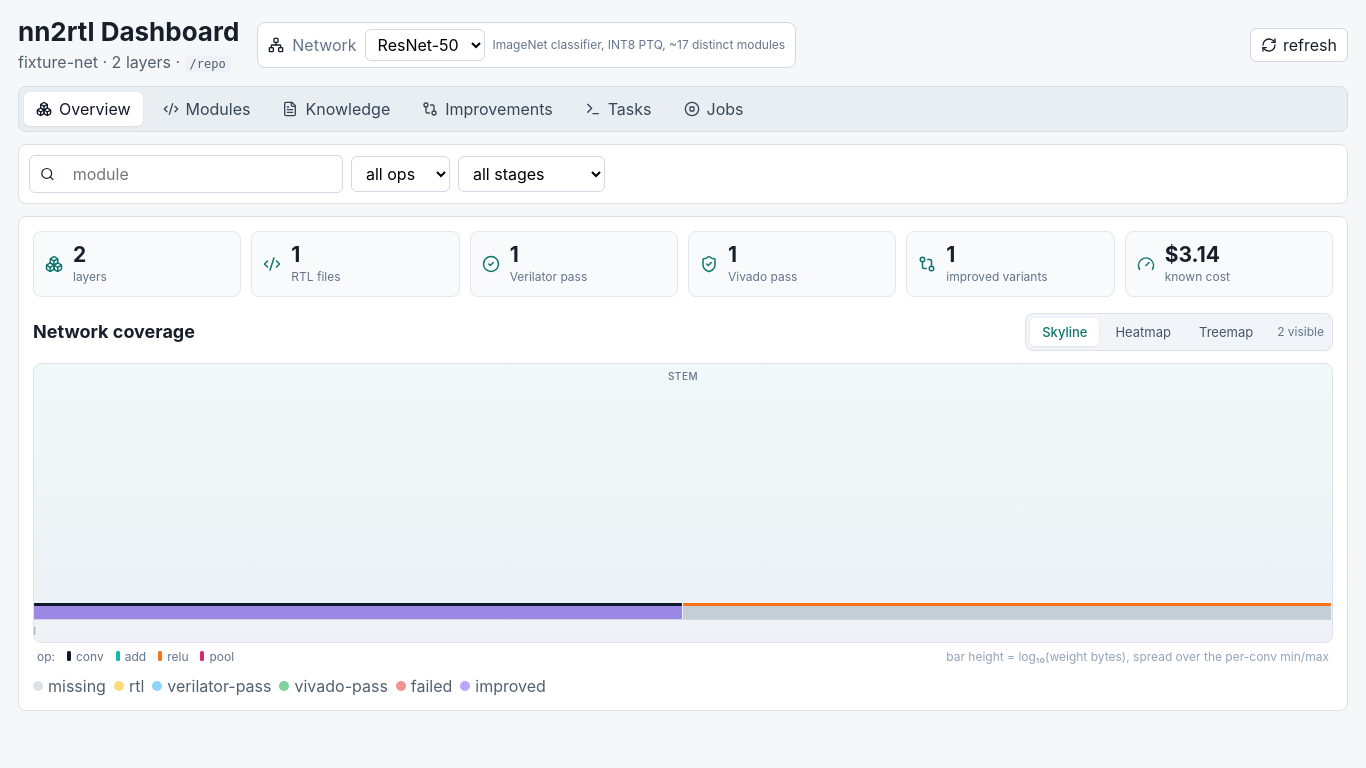
it: App › shows confirmation metadata before launching a command
Expected: the text "fixture-net · 2 layers · /repo" is shown, [18,52,239,72]
Step 1. Click the button "tasks" → (618, 109), box [573,92,664,126]
(page scrolled)
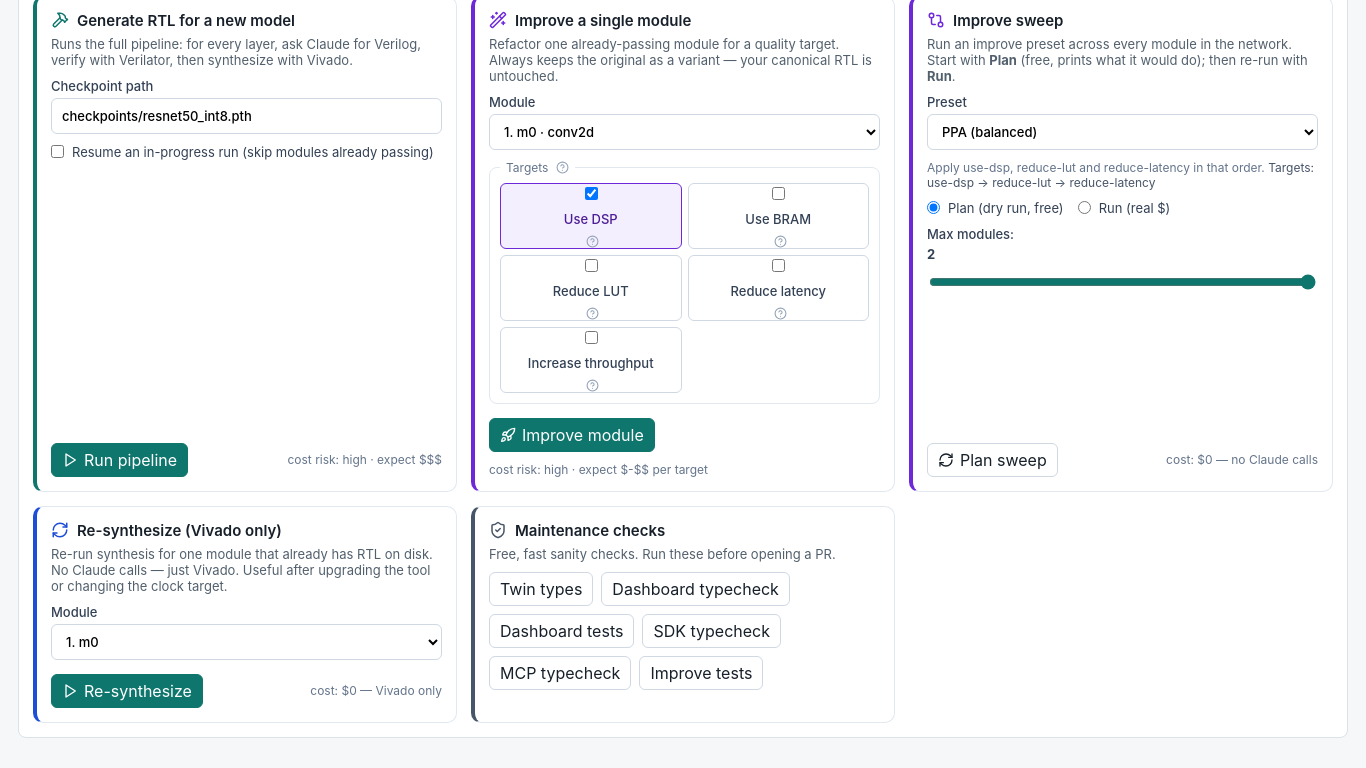
Step 2. Click the button "Twin types" → (541, 589), box [489,572,593,606]
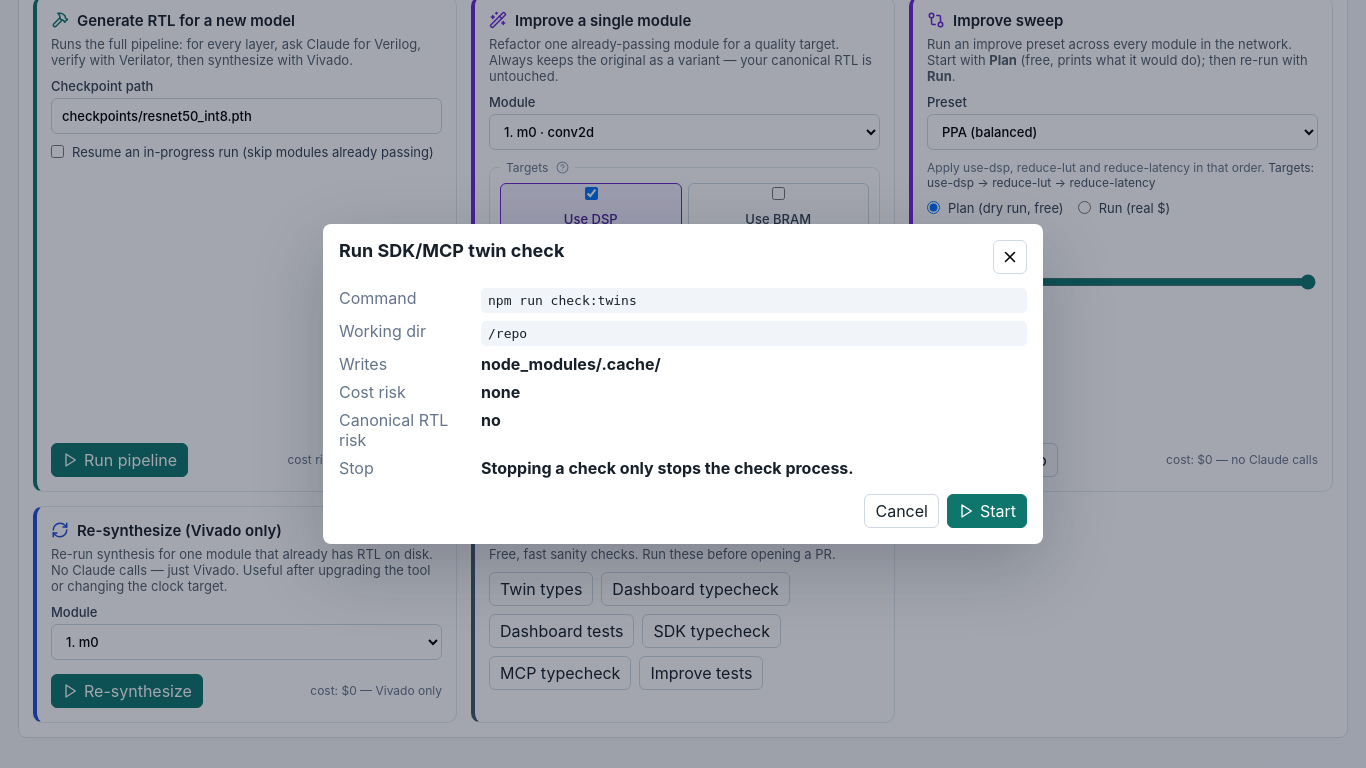
Expected: the heading "Run SDK/MCP twin check" is shown, [339,240,564,261]
Expected: the text "npm run check:twins" is shown, [481,288,1027,313]
Expected: the text "Canonical RTL risk" is shown, [339,410,448,450]
